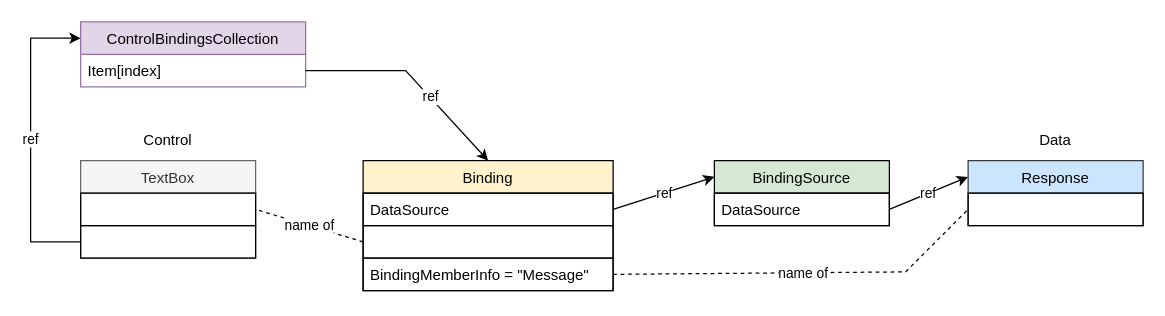
The diagram is 1165 pixels wide and 316 high, and some of its shapes have lost their labels. Each missing label, with the centre of its shape:
DataBindings: point (167, 241)
Message: point (1055, 209)
PropertyName = "Text": point (487, 241)
Text: point (167, 209)
